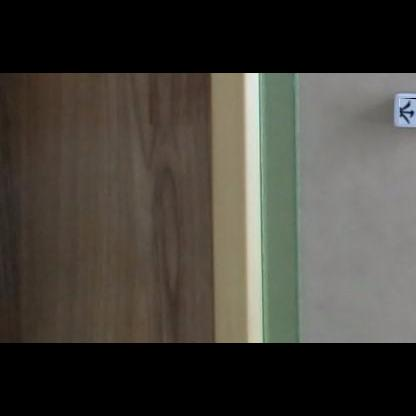1z: (399, 98, 416, 124)
